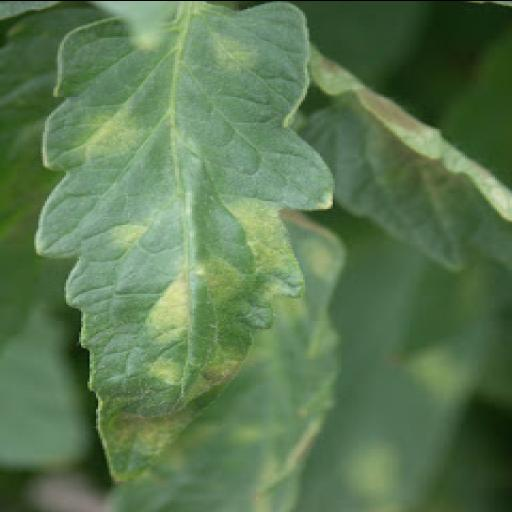disease_tomato: (30, 0, 337, 487)
